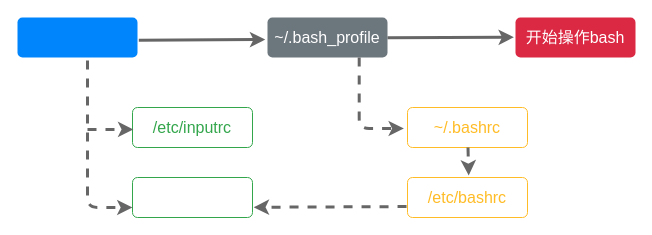
The diagram is 652 pixels wide and 235 high, and some of its shapes have lost their labels. The centre of each missing label's shape, as x and y in pixels:
"/etc/profile" belongs at [77,37].
"/etc/profile.d/*.sh" belongs at [192,197].
